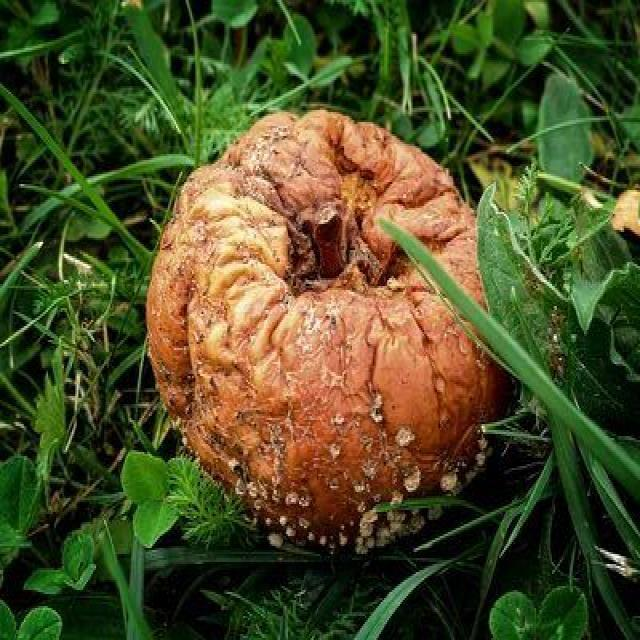Rotten: (147, 124, 525, 534)
